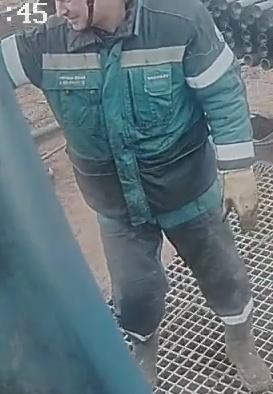gloves: (216, 162, 261, 234)
vest: (39, 10, 221, 226)
